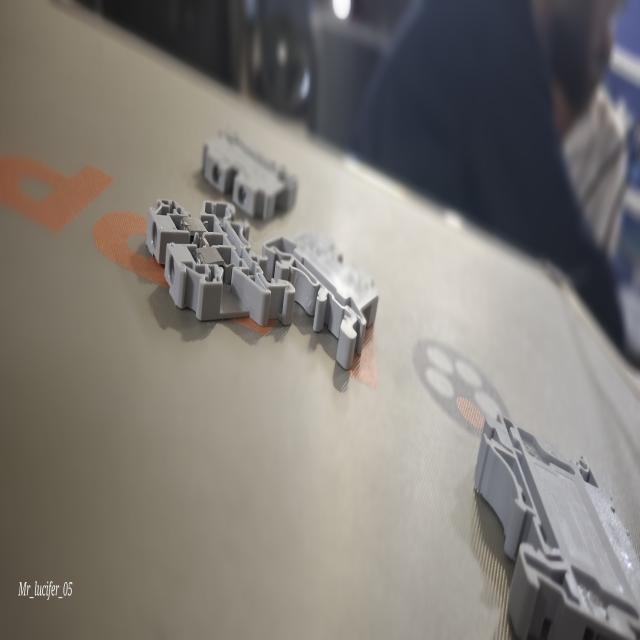Inverted: (271, 188, 388, 384)
Pass: (136, 138, 299, 356)
